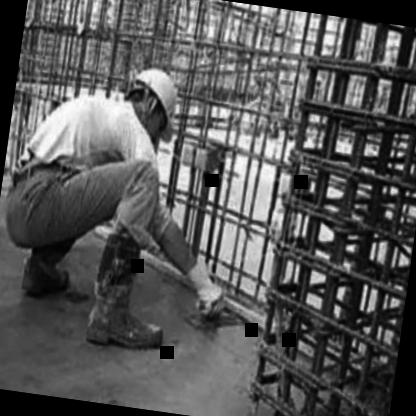helmet: (116, 56, 187, 146)
